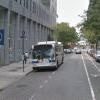Bus: (30, 34, 68, 74)
